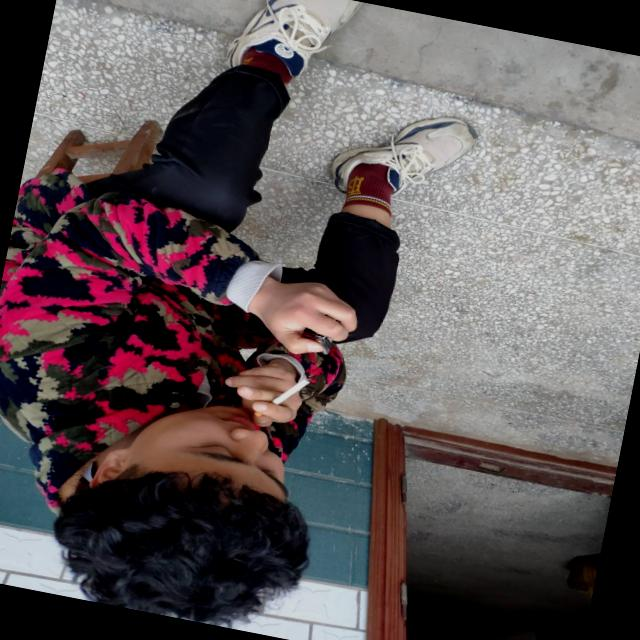cigarette: (268, 372, 312, 412)
